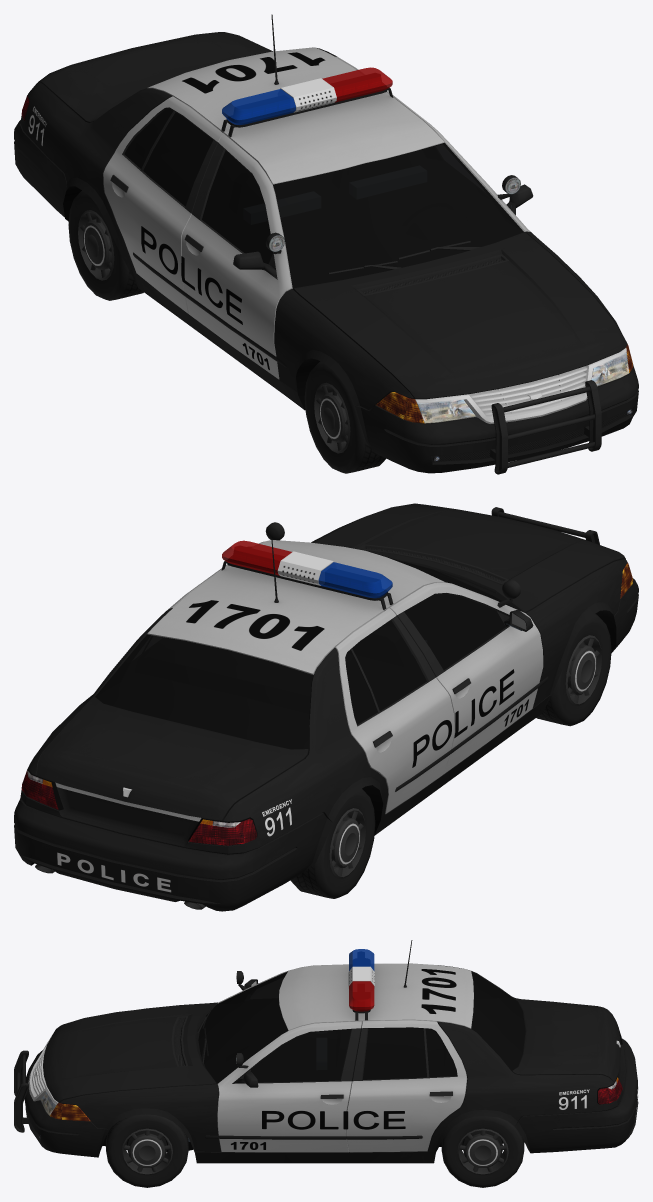
File: police.glb
3 renders of one model, top to bottom at view 1: azimuth 30°, elevation 25°; view 2: azimuth 150°, elevation 25°; view 3: azimuth 270°, elevation 25°, orthographic. The views are drawn at different scales.
Parts seen in each view (by area): view 1: Body (×4), Door skin and glass (×4), TyreRim (×4), Lamp head, Seat back (×2); view 2: Body (×4), Door skin and glass (×3), TyreRim (×4), Lamp brake; view 3: Body (×4), Door skin and glass (×4), TyreRim (×4), Lamp head, Lamp brake.
Part boxes in pixels (x1,y1,x2,y2): Body (×4): (14,14,638,474); Door skin and glass (×4): (171,88,554,387); TyreRim (×4): (68,190,386,473); Lamp head: (376,344,633,462); Seat back (×2): (244,166,426,224); Body (×4): (14,503,638,911); Door skin and glass (×3): (381,581,567,772); TyreRim (×4): (290,614,611,898); Lamp brake: (21,767,256,845); Body (×4): (14,940,638,1163); Door skin and glass (×4): (182,964,360,1147); TyreRim (×4): (106,1114,524,1187); Lamp head: (39,1092,90,1139); Lamp brake: (597,1030,622,1104).
Bounding box in the file's own units: 1.78 × 1.67 × 4.6.
Materials: 10 (9 with a texture image).
